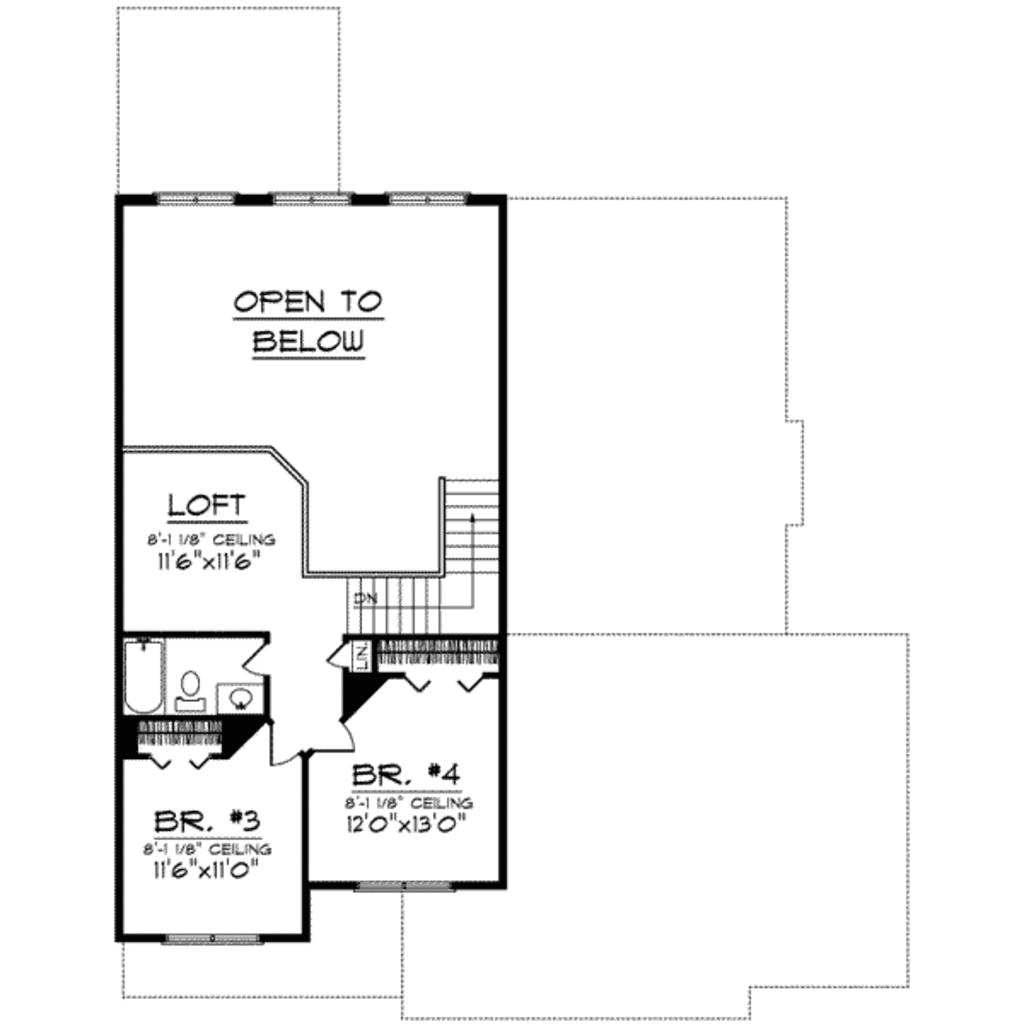door: (312, 716, 358, 765), (263, 728, 309, 768), (240, 635, 278, 678), (325, 639, 353, 674)
large_sink: (171, 665, 212, 720)
small_sink: (217, 674, 261, 711)
stairs: (305, 451, 505, 639)
tub: (125, 636, 167, 716)
window: (159, 187, 240, 211), (271, 185, 353, 205), (353, 881, 453, 897), (394, 193, 464, 211), (159, 936, 263, 946)
